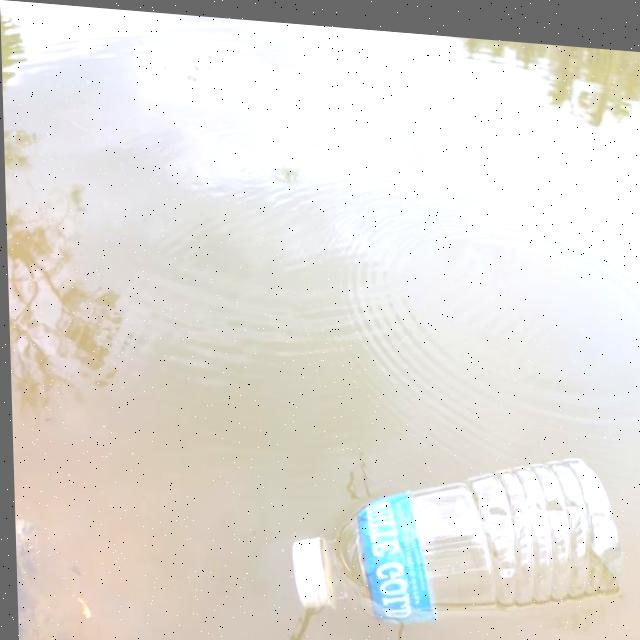waterbottle: (269, 425, 630, 640)
